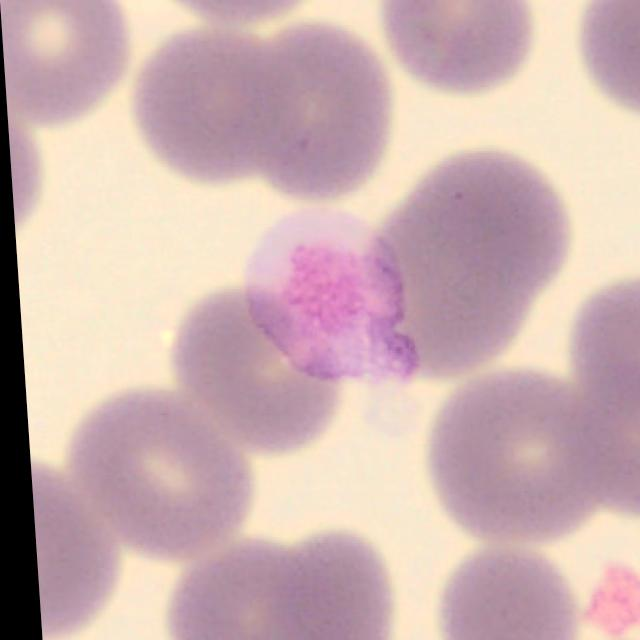Artefato: (241, 209, 413, 380)
